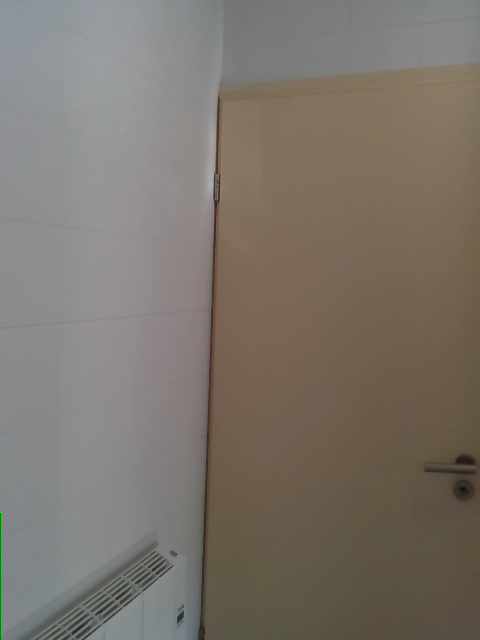closed: (202, 62, 477, 638)
